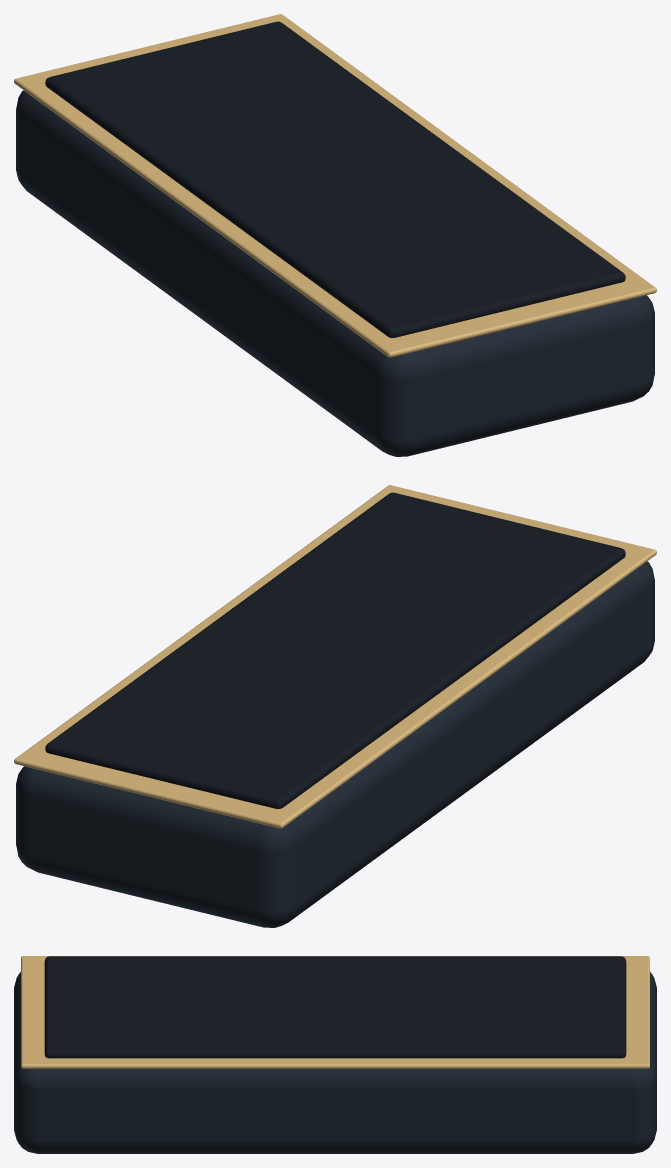
Rendered from observatory-remote.glb.
The picture shows the model from 3 angles, top to bottom: view 1: azimuth 30°, elevation 25°; view 2: azimuth 150°, elevation 25°; view 3: azimuth 270°, elevation 25°; orthographic projection. The views are drawn at different scales.
Visible parts, largest first — view 1: remote-grip, remote-shell, remote-trim; view 2: remote-grip, remote-shell, remote-trim; view 3: remote-grip, remote-shell, remote-trim.
Part boxes in pixels (box(x1,y1,x2,y2)): remote-grip: box(45, 21, 625, 337); remote-shell: box(16, 90, 654, 456); remote-trim: box(14, 14, 656, 357); remote-grip: box(45, 492, 625, 808); remote-shell: box(16, 561, 654, 927); remote-trim: box(14, 485, 656, 828); remote-grip: box(44, 956, 626, 1058); remote-shell: box(14, 972, 656, 1153); remote-trim: box(21, 956, 649, 1068).
Bounding box in the file's own units: 0.078 × 0.0337 × 0.188.
